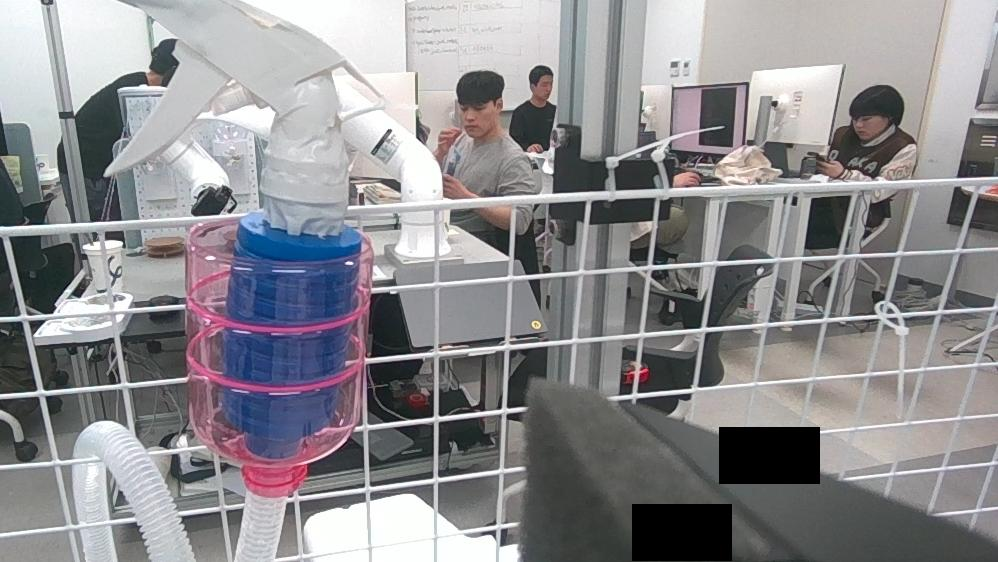Nozzle: (73, 0, 382, 445)
